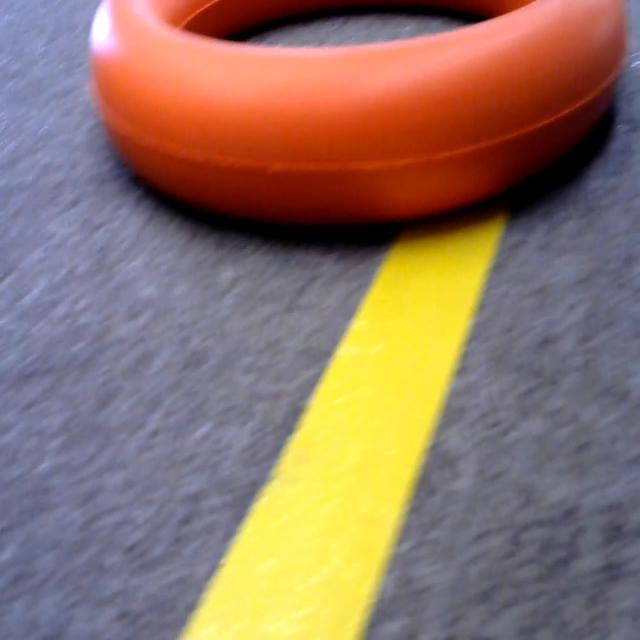note: (53, 0, 640, 232)
